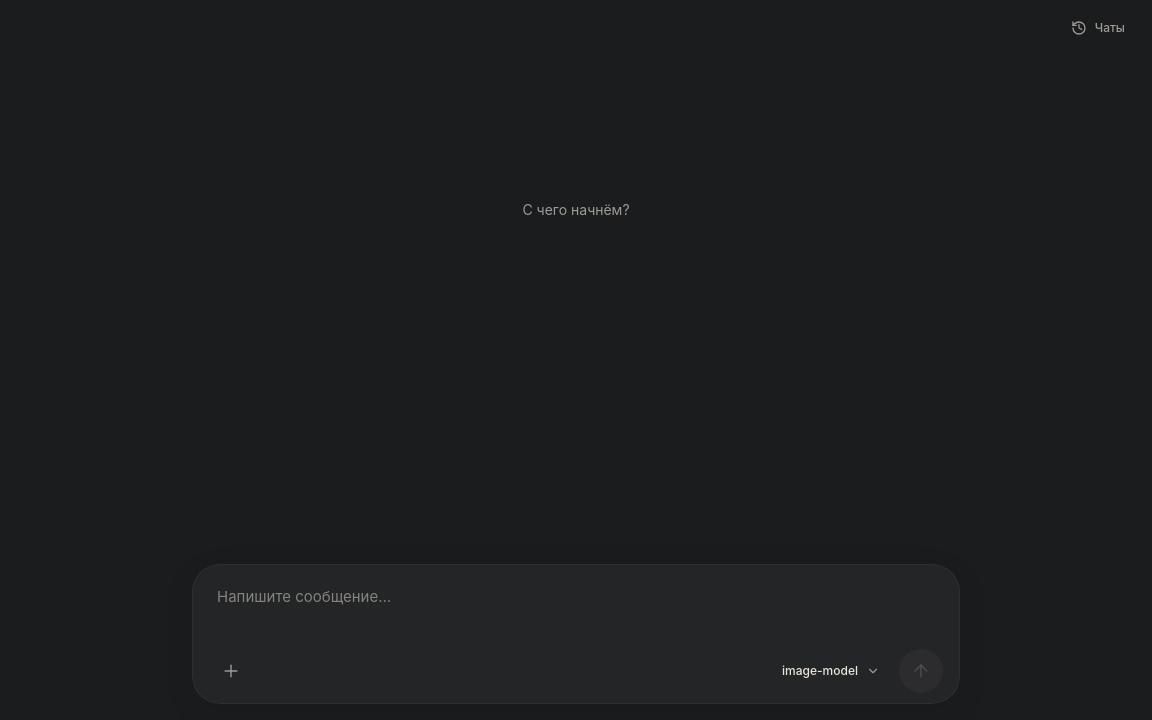
Scenario: ChatPage › keeps the model menu open to select reasoning and sends the chosen effort
This screenshot has width=1152, height=720.
Click the button with aria-label "Выбрать модель" at [831, 671], box [771, 655, 891, 687]
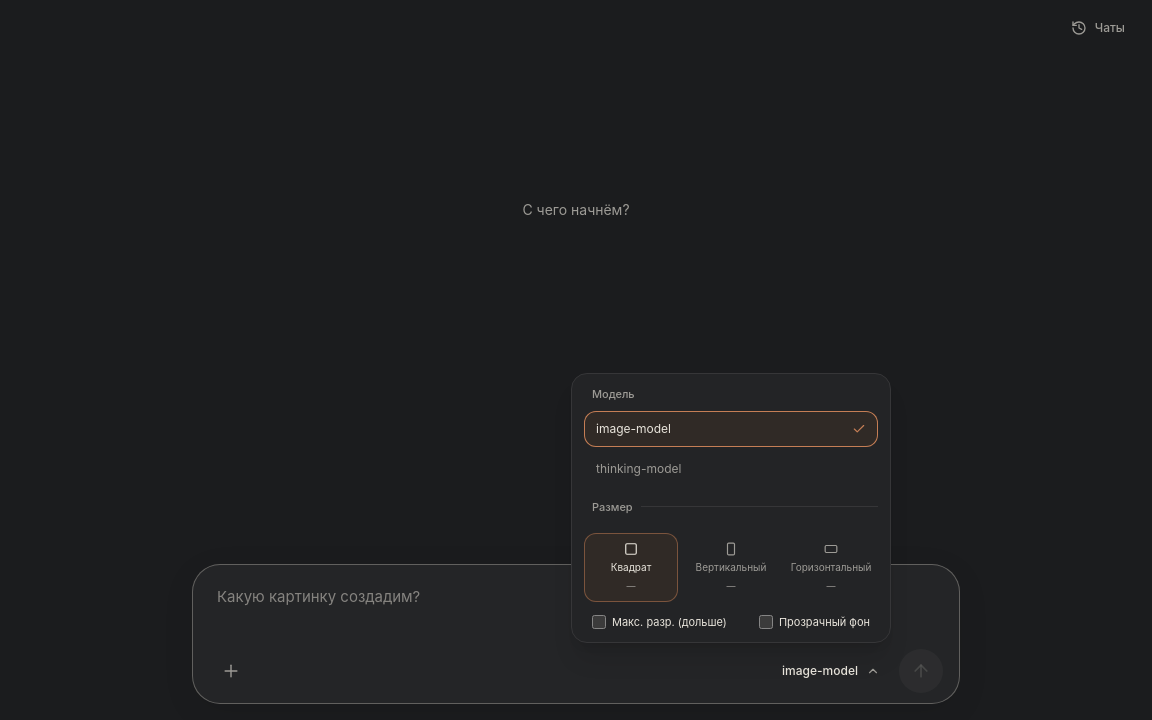
Click the radio button labelled "thinking-model" at [639, 468], box [596, 460, 681, 476]
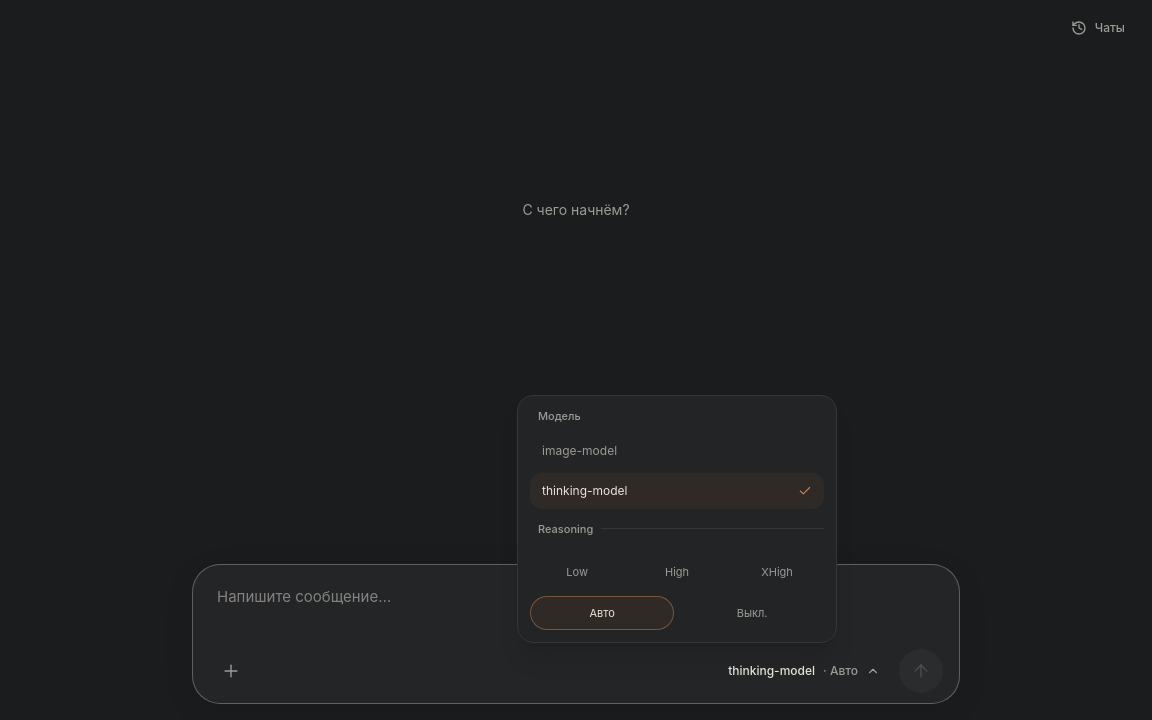
Click the radio button labelled "XHigh" at [777, 572], box [761, 565, 793, 579]
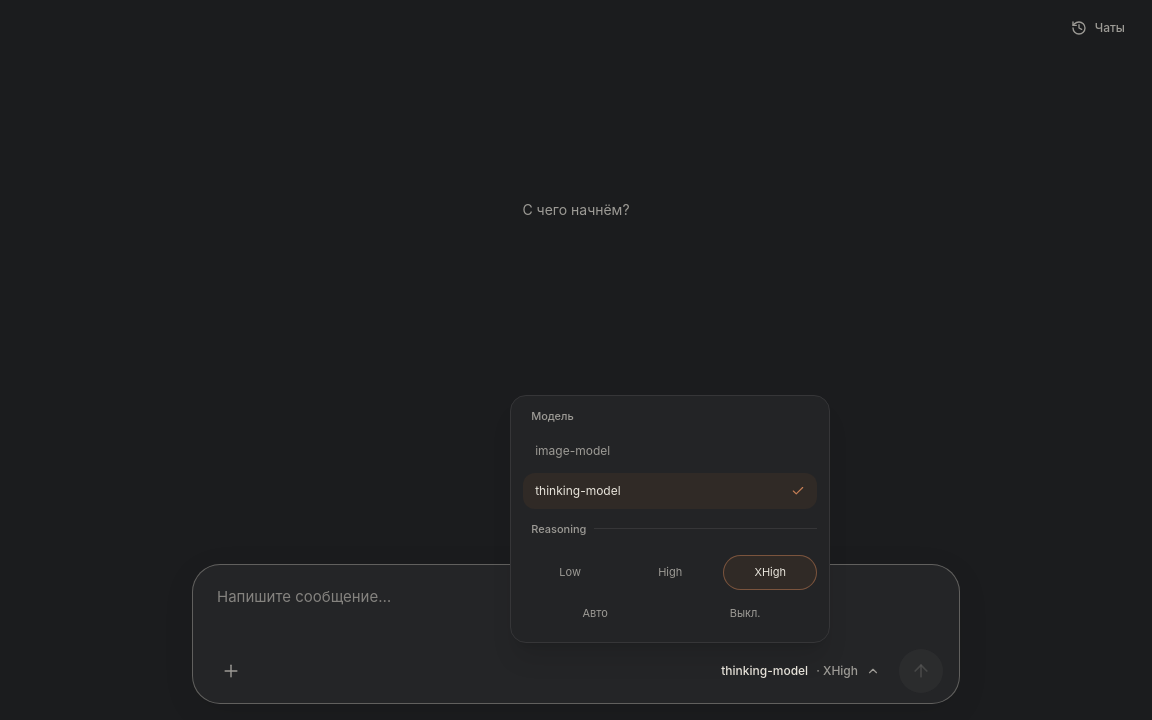
Expected: the radio button labelled "XHigh" is checked, [723, 555, 817, 590]
Press Escape
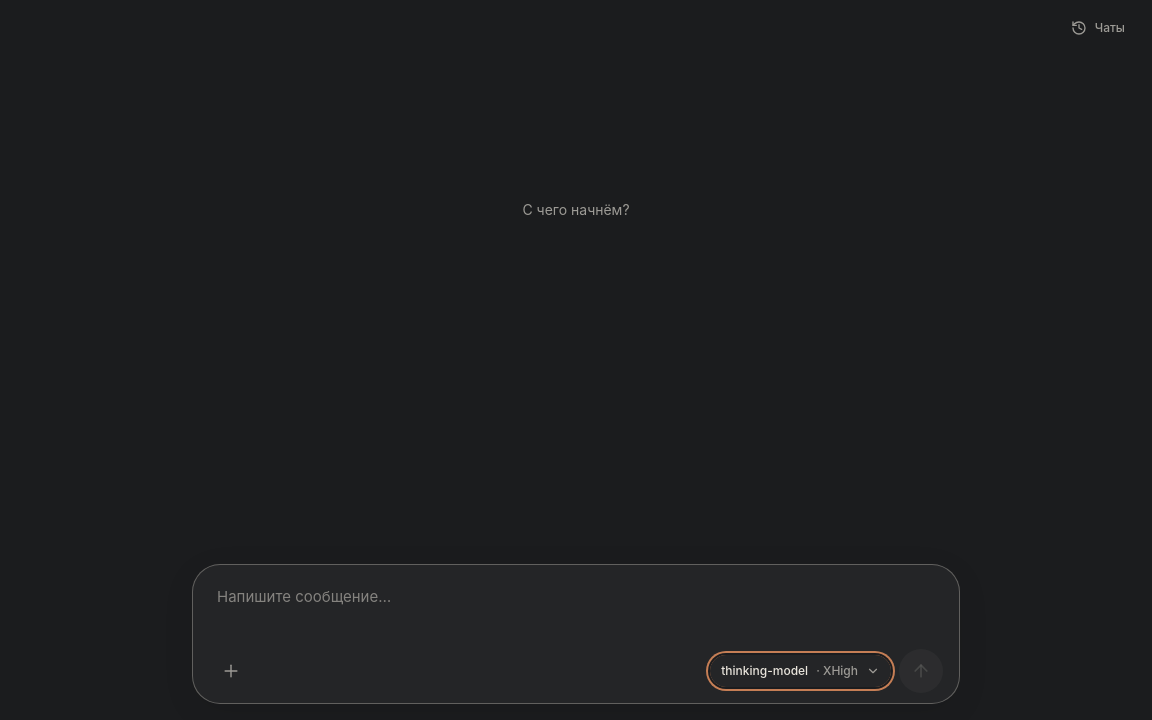
Expected: the button with aria-label "Выбрать модель" shows "XHigh", [710, 655, 891, 687]
Type "Подумай" into the text box labelled "сообщение" at [576, 609], box [209, 577, 943, 641]
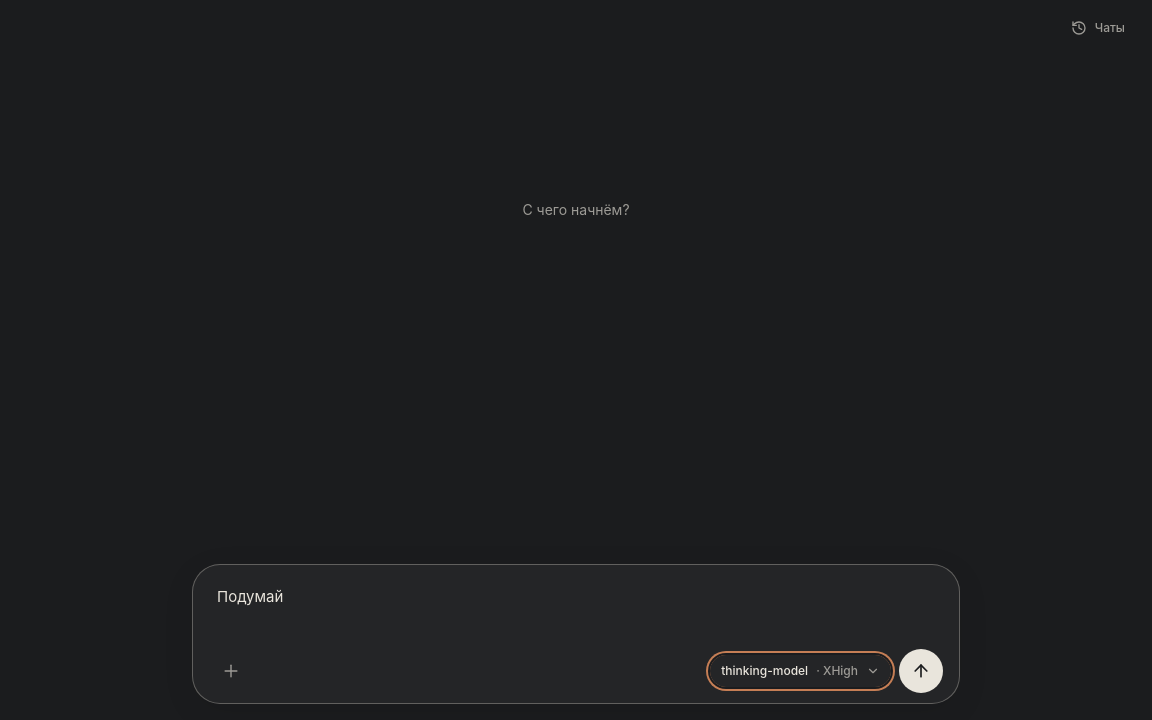
Click the button named "Отправить" at [921, 671], box [899, 649, 943, 693]
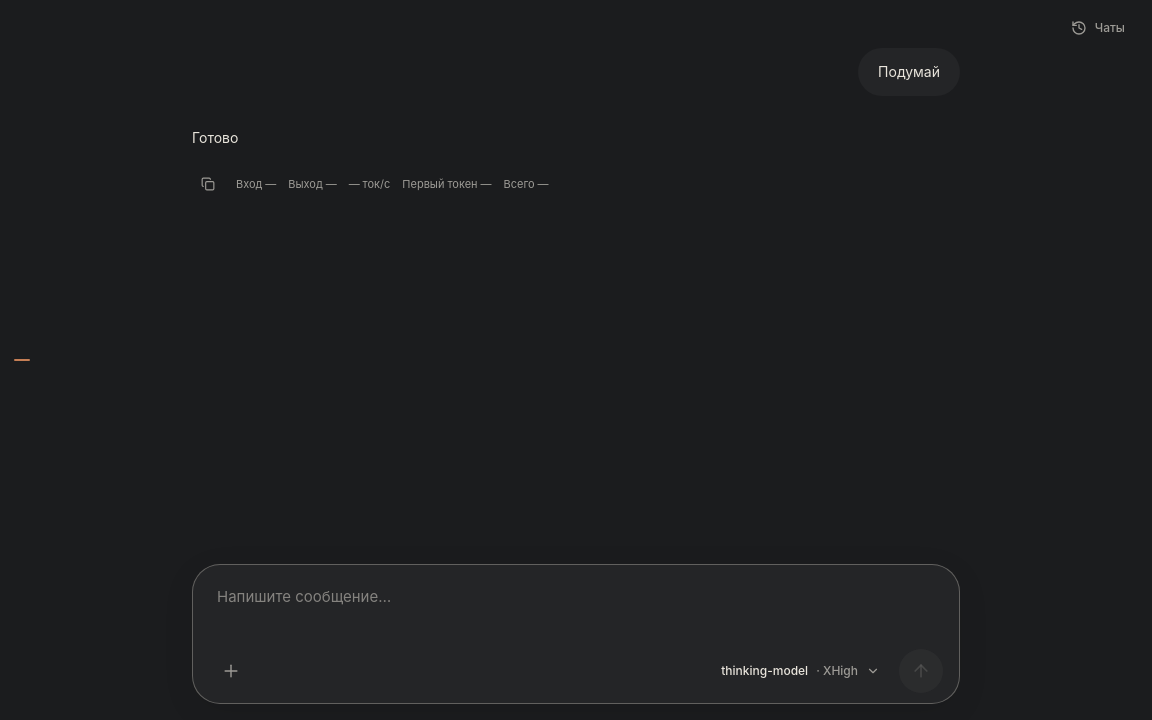
Expected: the text "Готово" is shown, [192, 129, 238, 146]
